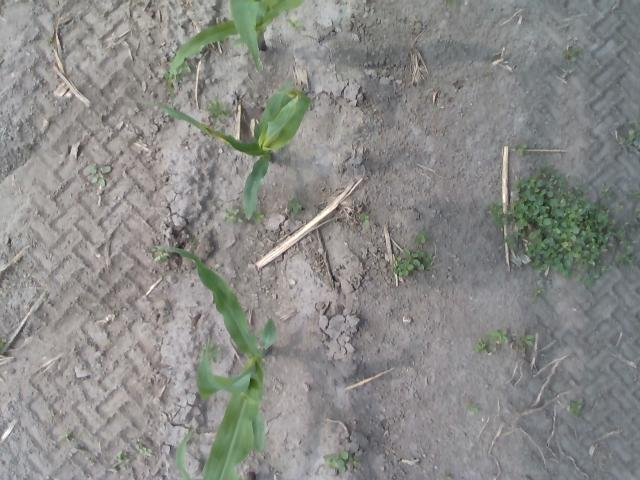Maize: (148, 246, 278, 480), (134, 81, 312, 220), (169, 0, 304, 97)
Weeds: (509, 168, 618, 274), (393, 248, 425, 274), (206, 98, 232, 122), (84, 163, 110, 186), (614, 246, 636, 267), (514, 328, 534, 348), (616, 225, 637, 243), (332, 450, 350, 470), (576, 271, 598, 287), (489, 205, 507, 223), (624, 119, 638, 142), (492, 328, 510, 344), (222, 206, 240, 222), (571, 395, 585, 412), (414, 234, 427, 249), (476, 340, 490, 353), (57, 430, 72, 442), (288, 202, 303, 214), (628, 188, 640, 202), (566, 48, 580, 60), (518, 142, 530, 156), (601, 188, 613, 201), (116, 450, 129, 462), (286, 18, 300, 28), (136, 447, 148, 458), (155, 252, 168, 262), (210, 342, 220, 354), (184, 61, 192, 74), (256, 211, 264, 224), (469, 402, 478, 413), (363, 214, 372, 224), (44, 36, 52, 46), (534, 290, 542, 298)
